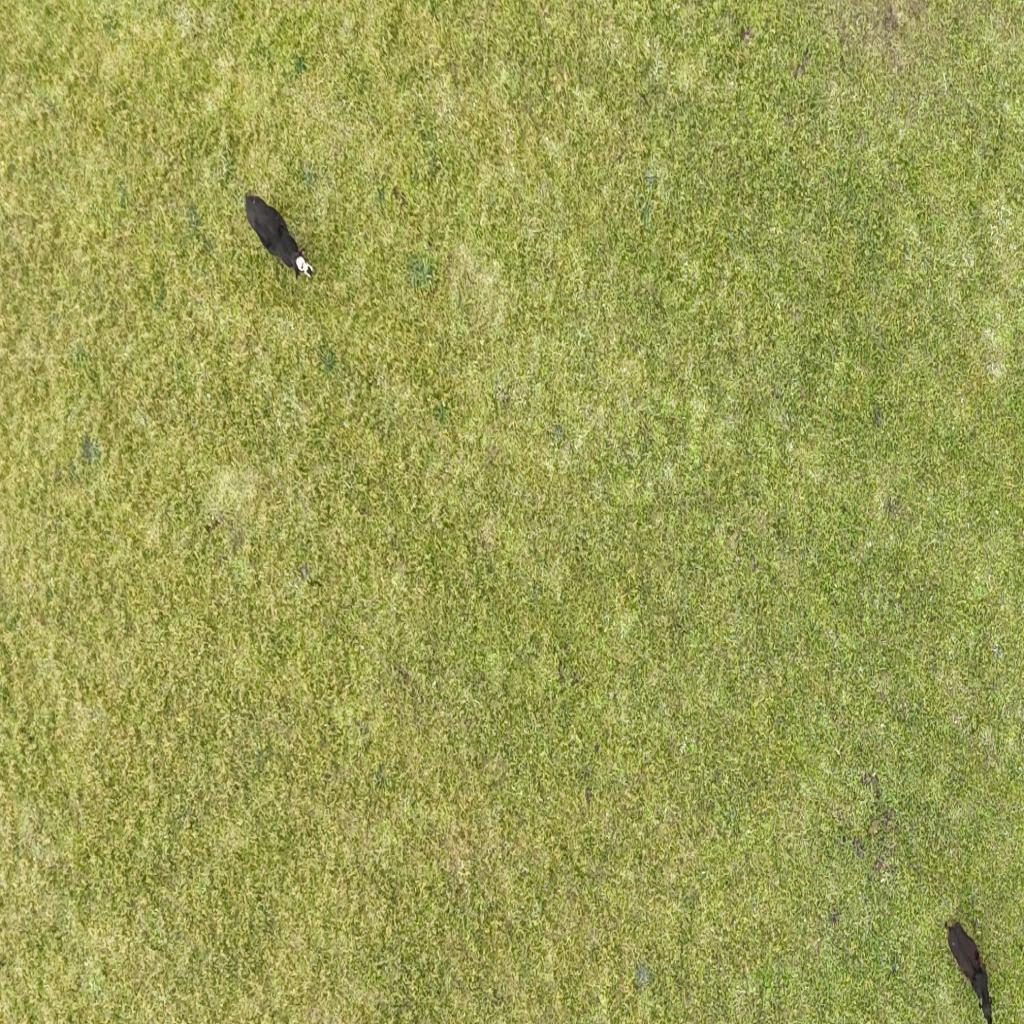cow: (243, 189, 318, 284), (943, 916, 994, 1024)
